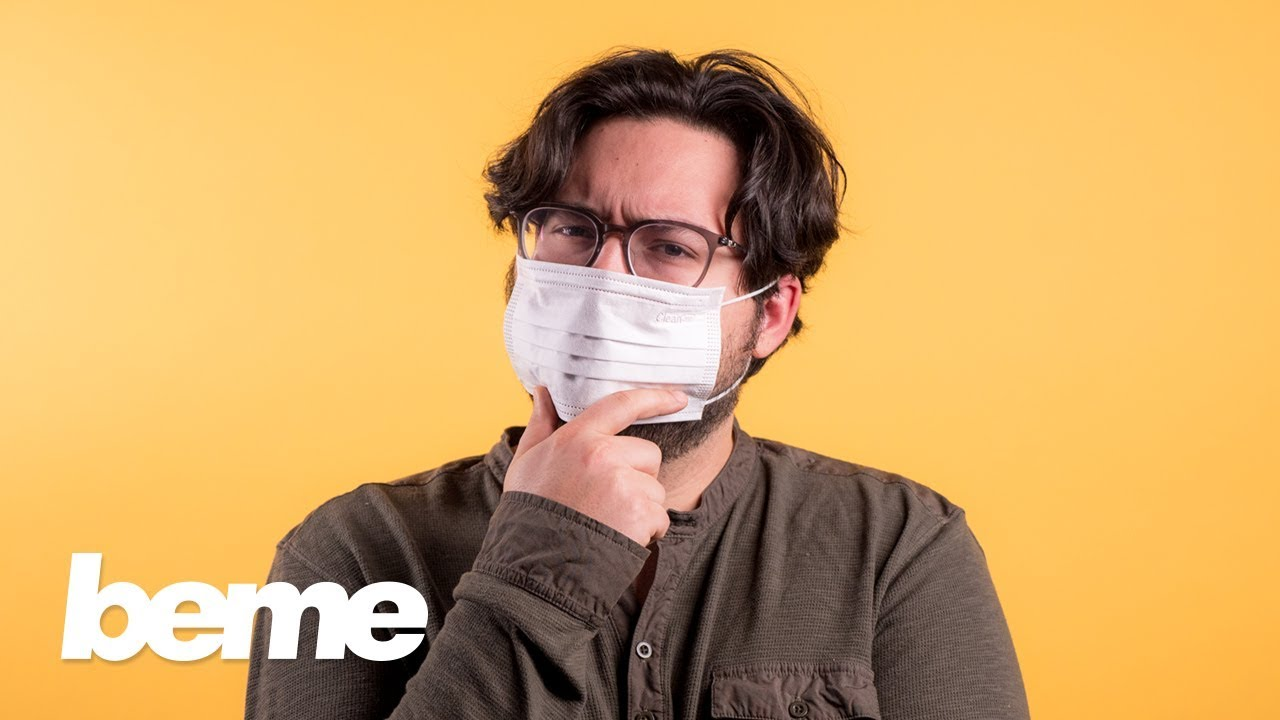mask: (512, 273, 727, 433)
